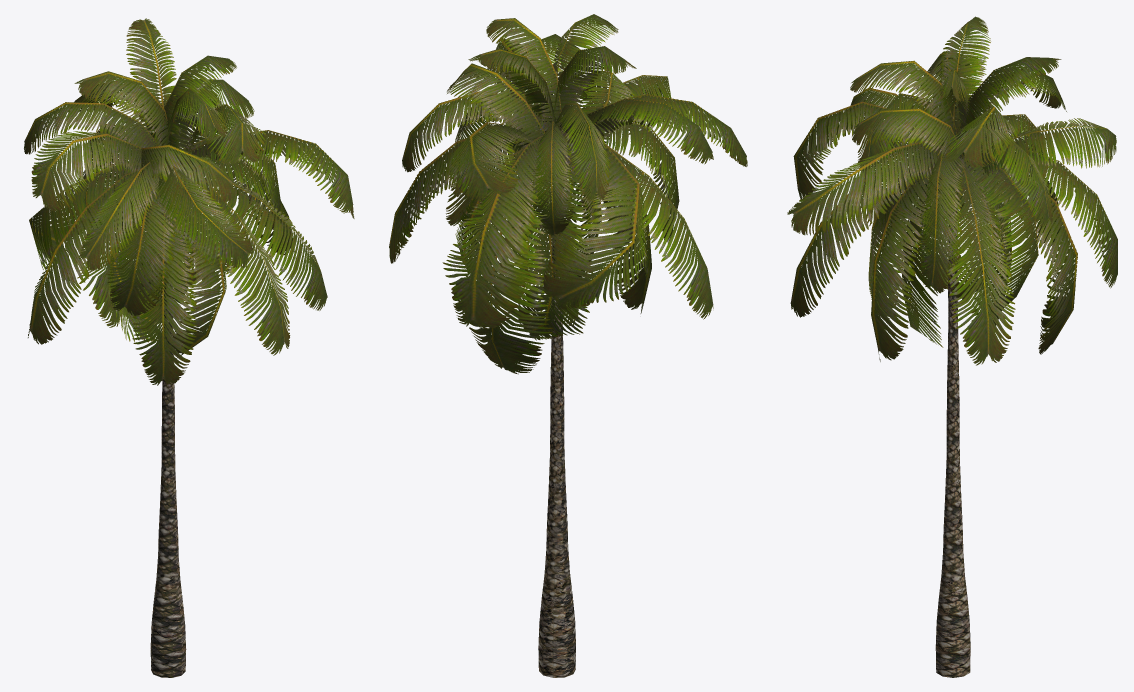
Rendered from tree_palm_tropical_01.dae.
3 renders of one model, left to right at view 1: azimuth 30°, elevation 25°; view 2: azimuth 150°, elevation 25°; view 3: azimuth 270°, elevation 25°, orthographic. The views are drawn at different scales.
Parts seen in each view (by area): view 1: palm_straight; view 2: palm_straight; view 3: palm_straight.
Boxes of the visible parts, <box> form: palm_straight: <box>24,18,354,677</box>; palm_straight: <box>389,14,747,677</box>; palm_straight: <box>787,16,1117,677</box>.
Bounding box in the file's own units: 12.38 × 24.98 × 12.2.
